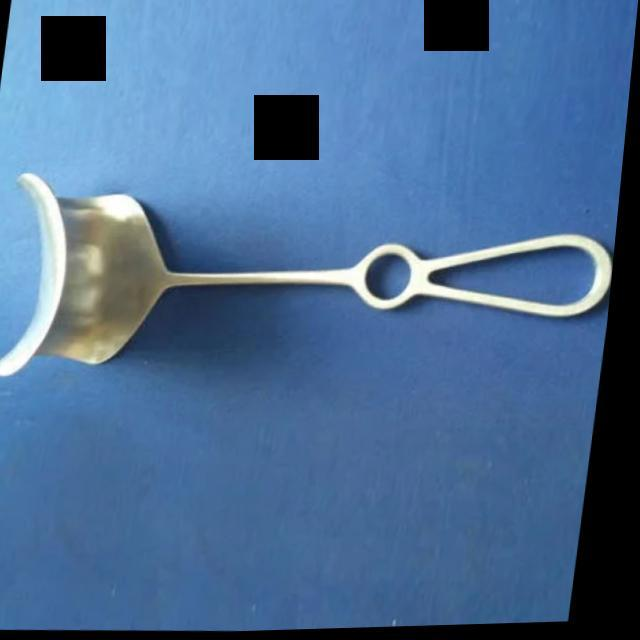Morris Retractor: (0, 143, 628, 398)
